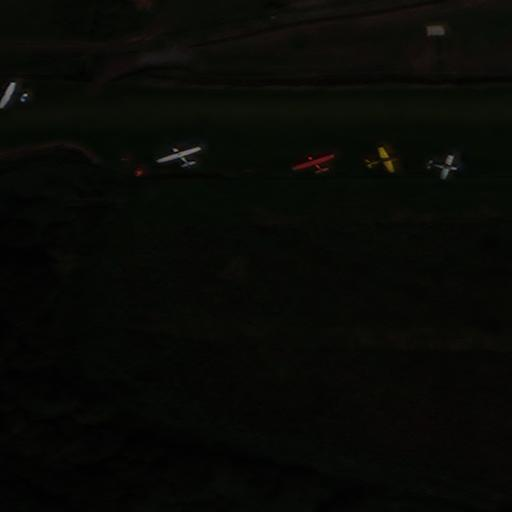Small Civil Transport: (155, 145, 198, 166), (426, 155, 458, 180), (291, 152, 330, 172), (367, 146, 397, 172), (0, 81, 28, 106)
